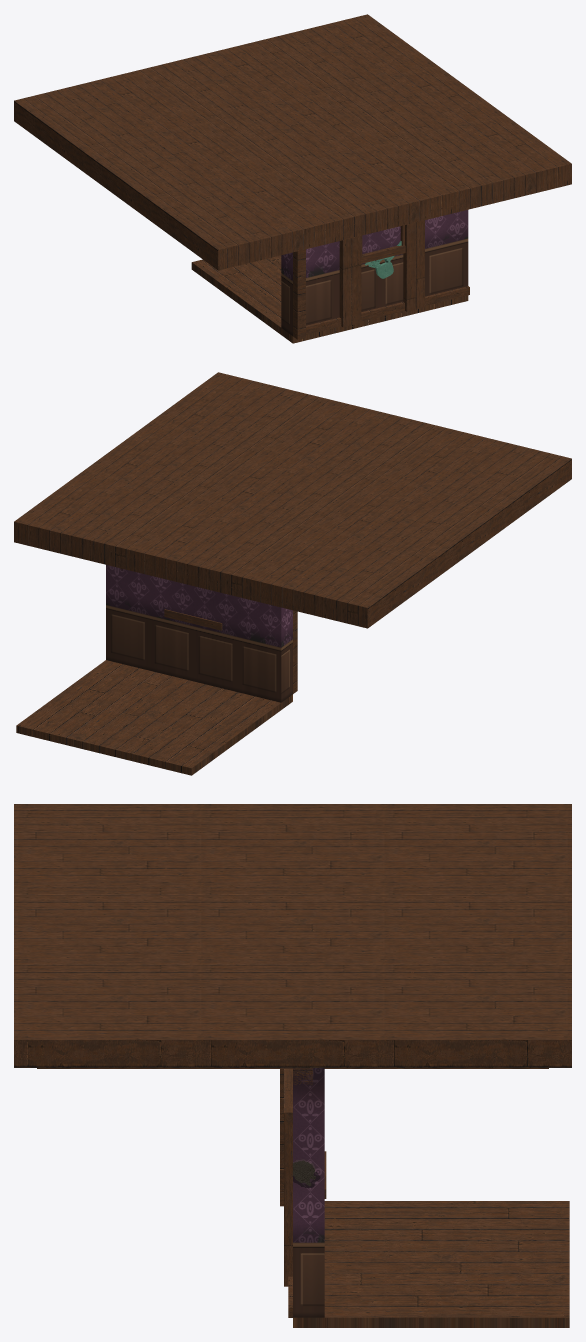
File: Bedroom_Kit.fbx
3 renders of one model, top to bottom at view 1: azimuth 30°, elevation 25°; view 2: azimuth 150°, elevation 25°; view 3: azimuth 270°, elevation 25°, orthographic. The views are drawn at different scales.
Parts seen in each view (by area): view 1: BR_Kit_Roof, BR_Kit_Door, BR_Kit_Door_Wide, BR_Kit_Floor_3m, BR_Kit_Window, BR_Kit_Wall_3m, BR_Kit_Wall_1p5m, BR_Kit_Corner; view 2: BR_Kit_Roof, BR_Kit_Floor_3m, BR_Kit_Door, BR_Kit_Wall_3m, BR_Kit_Wall_1p5m, BR_Kit_Window, BR_Kit_Door_Wide; view 3: BR_Kit_Roof, BR_Kit_Floor_3m, BR_Kit_Door, BR_Kit_Door_Wide.
Boxes of the visible parts, box(x1,y1,x2,y2) form: BR_Kit_Roof: box(14, 14, 571, 270); BR_Kit_Door: box(281, 210, 469, 335); BR_Kit_Door_Wide: box(306, 210, 469, 331); BR_Kit_Floor_3m: box(191, 255, 468, 343); BR_Kit_Window: box(316, 211, 468, 306); BR_Kit_Wall_3m: box(306, 210, 469, 333); BR_Kit_Wall_1p5m: box(306, 231, 381, 332); BR_Kit_Corner: box(293, 249, 305, 339); BR_Kit_Roof: box(14, 372, 571, 628); BR_Kit_Floor_3m: box(16, 660, 292, 775); BR_Kit_Door: box(106, 565, 294, 702); BR_Kit_Wall_3m: box(106, 566, 281, 701); BR_Kit_Wall_1p5m: box(193, 586, 281, 701); BR_Kit_Window: box(106, 566, 280, 699); BR_Kit_Door_Wide: box(106, 566, 281, 702); BR_Kit_Roof: box(14, 804, 571, 1067); BR_Kit_Floor_3m: box(293, 1201, 569, 1327); BR_Kit_Door: box(284, 1068, 324, 1317); BR_Kit_Door_Wide: box(284, 1069, 292, 1307).
Size of the model in its own units: 6.05 by 3.46 by 6.05.
